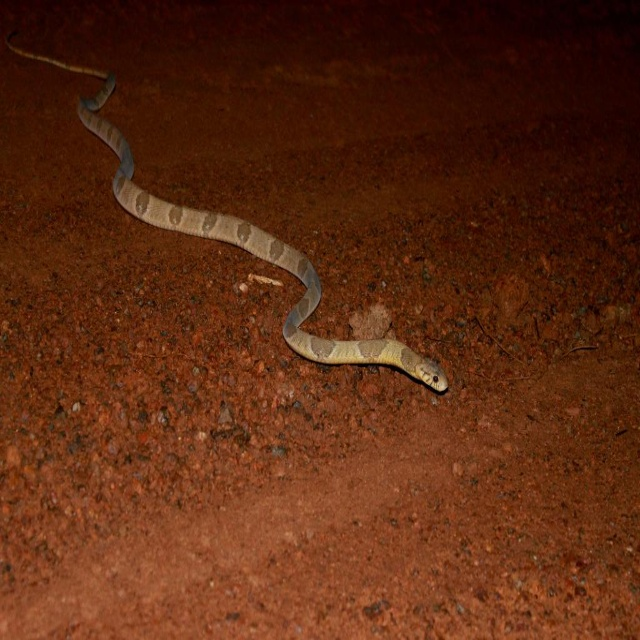Snake: (4, 26, 450, 393)
